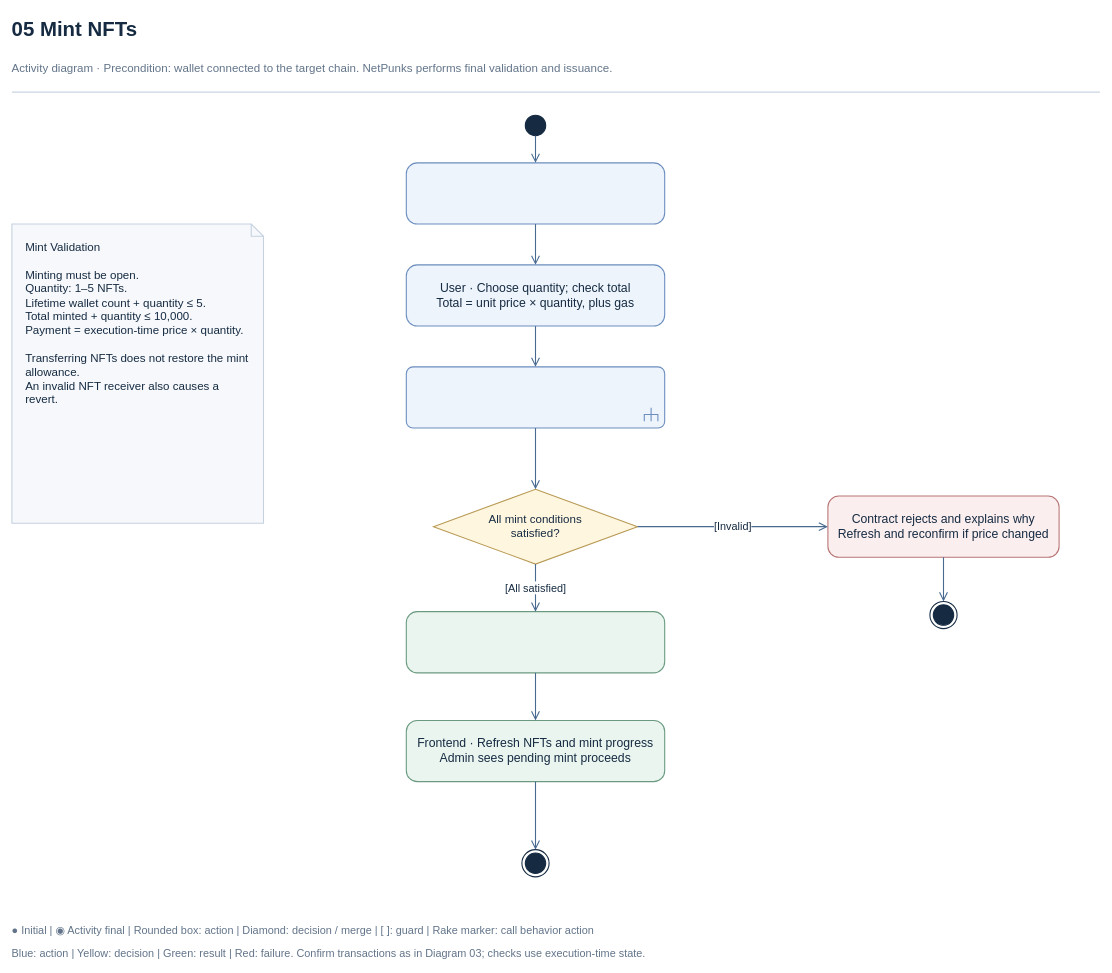
Some shapes in this 1112 by 973 pixel diagram are drawn without their labels. The centre of each missing label's shape, as x and y in pixels:
"Confirm mint(quantity) Send exact total ETH (Diagram 03)" belongs at [535,397].
"Frontend · Read mint status and price Load total supply and wallet mint count" belongs at [535,193].
"NFT contract · safeMint sequential IDs Update wallet count, supply, proceeds" belongs at [535,642].
